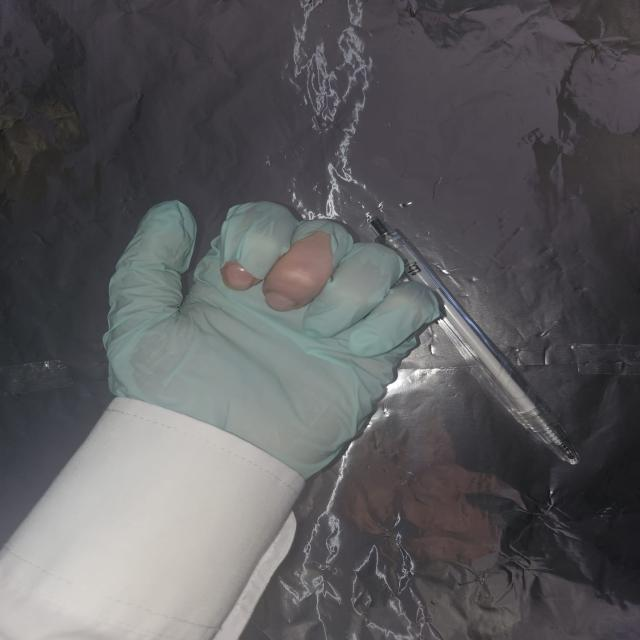gloves_damaged: (100, 198, 446, 479)
